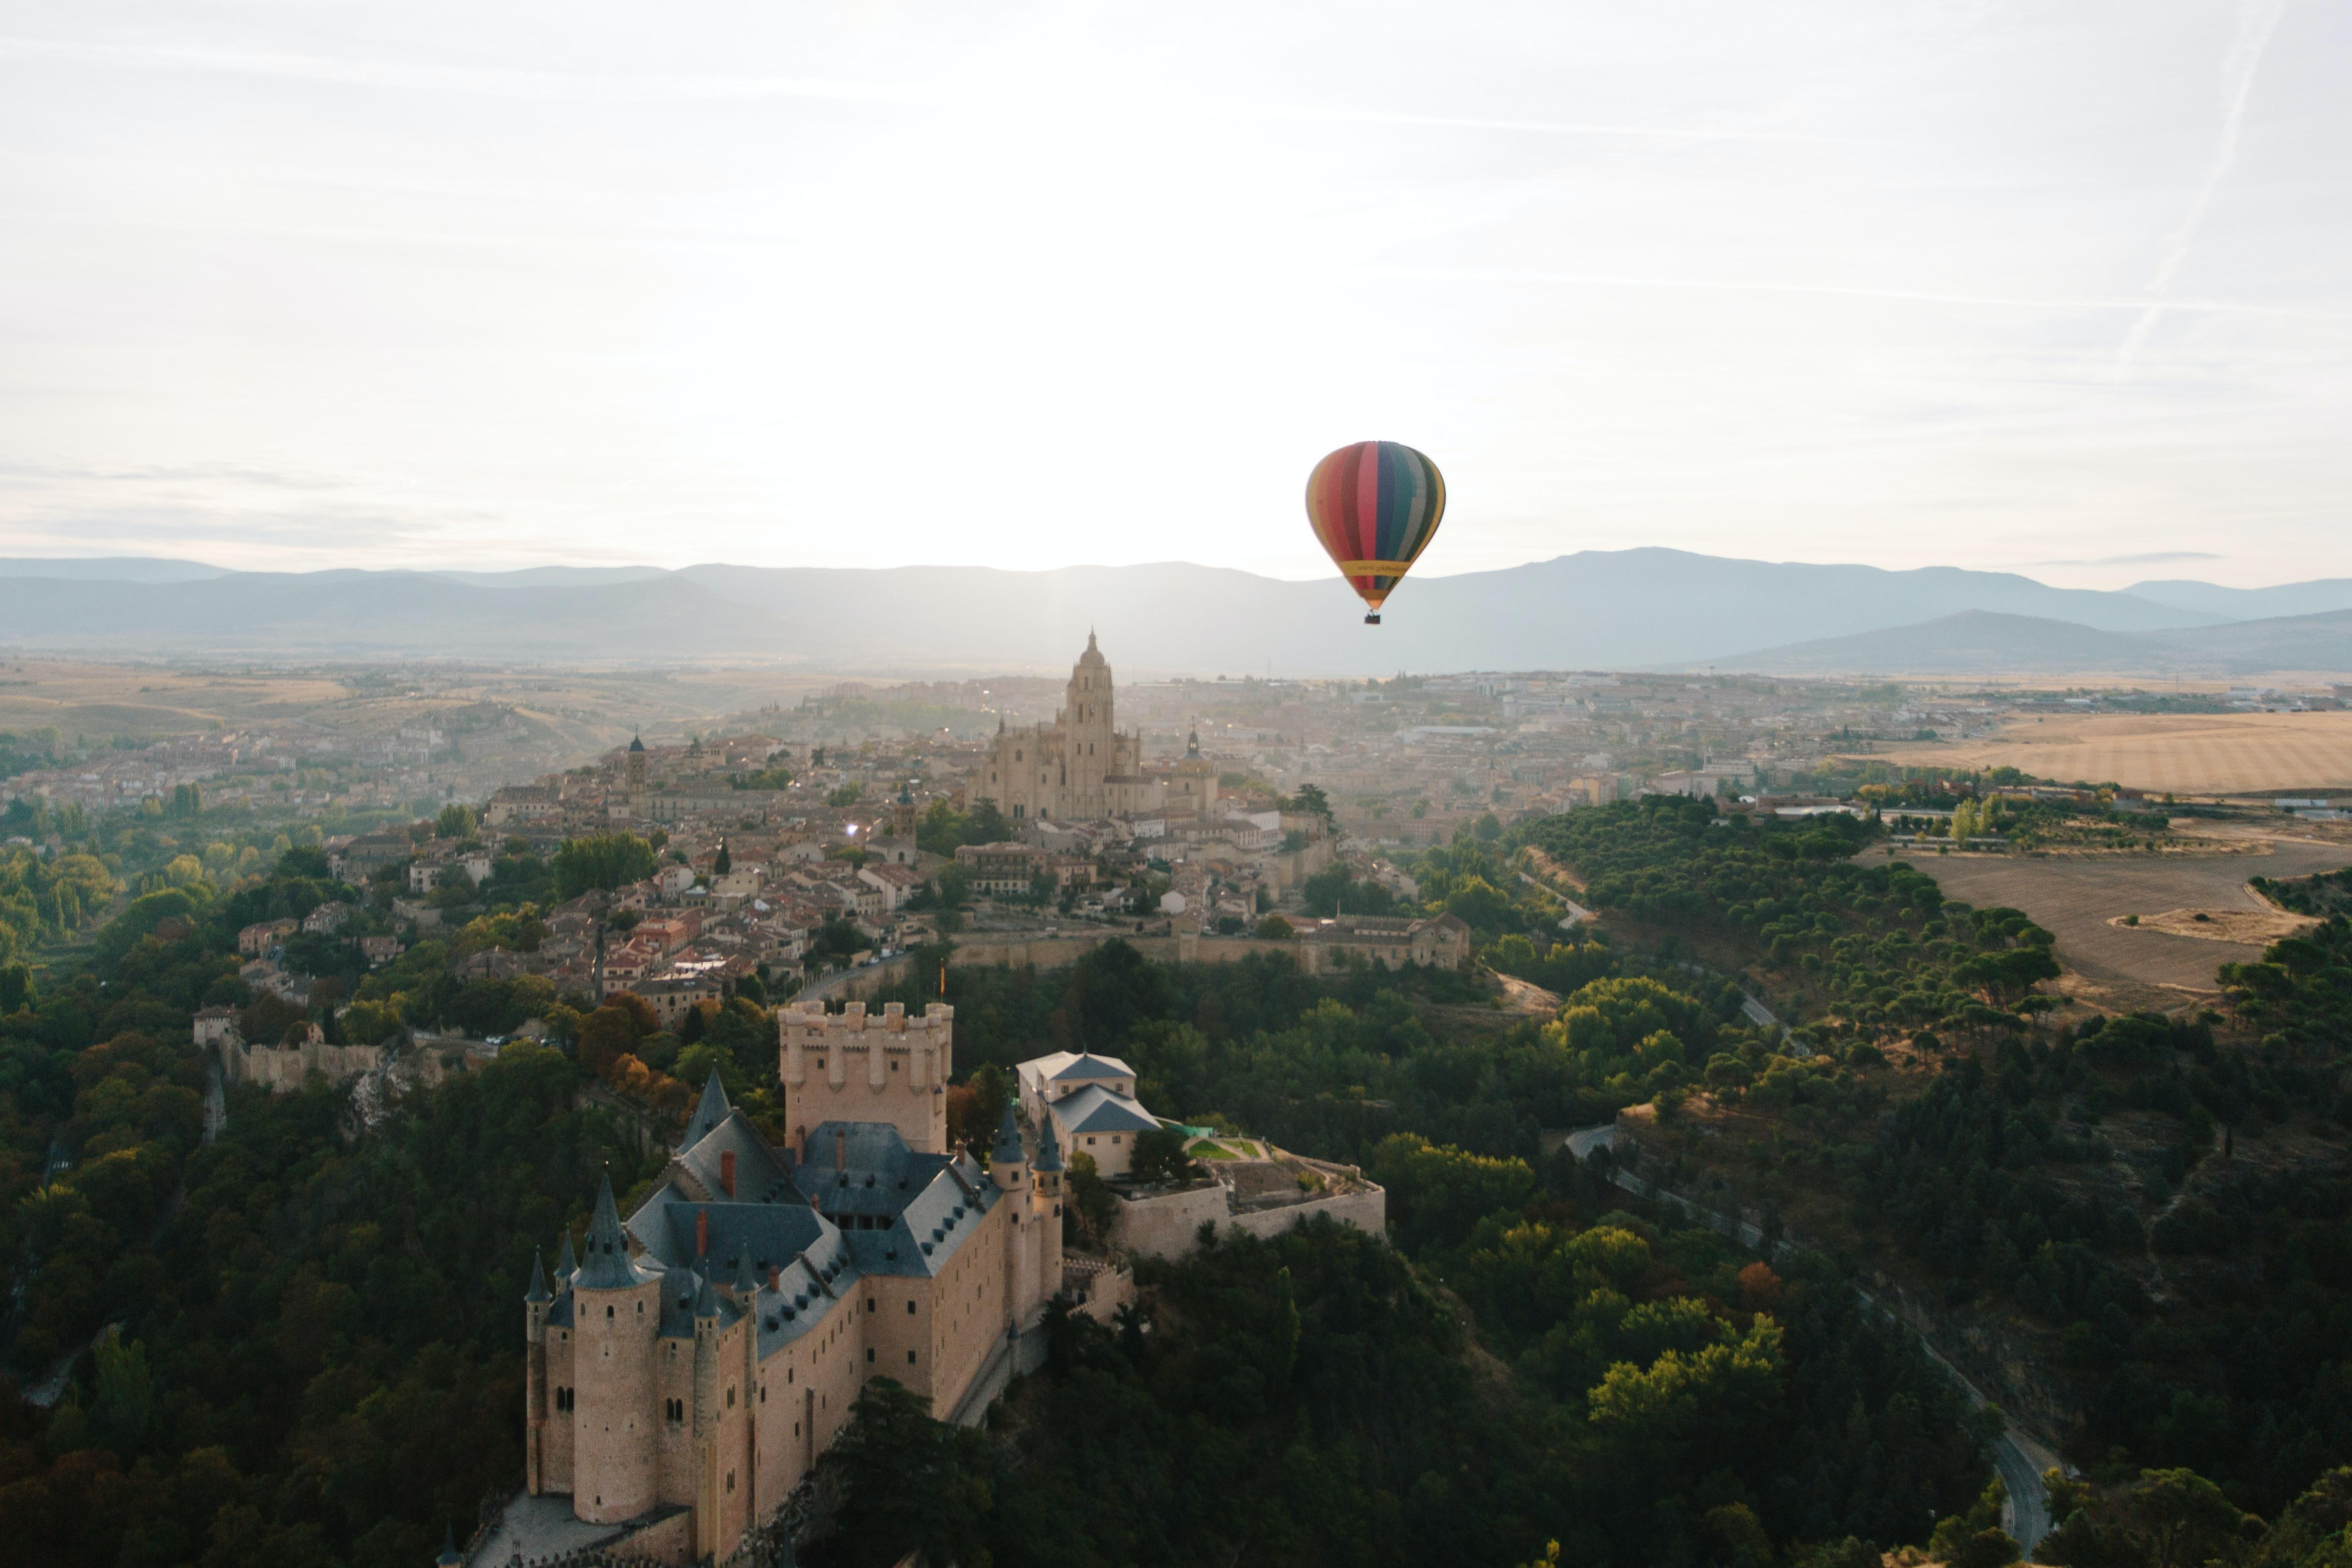hot air ballon: (1307, 441, 1445, 625)
